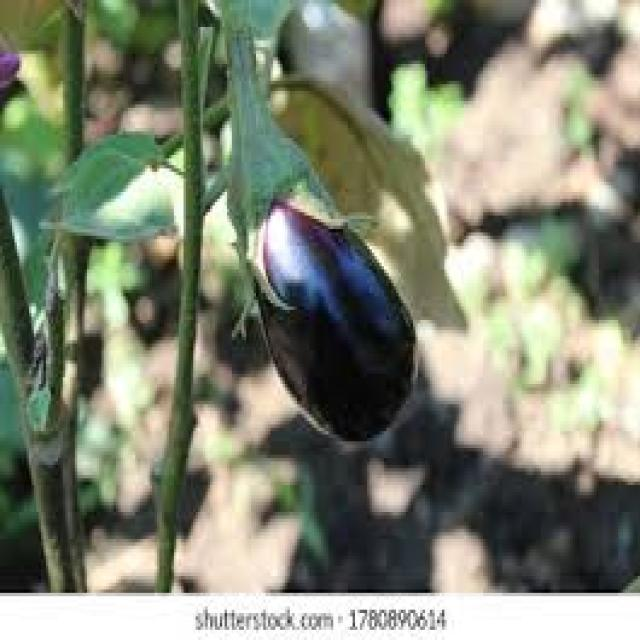Eggplant: (220, 32, 418, 448)
